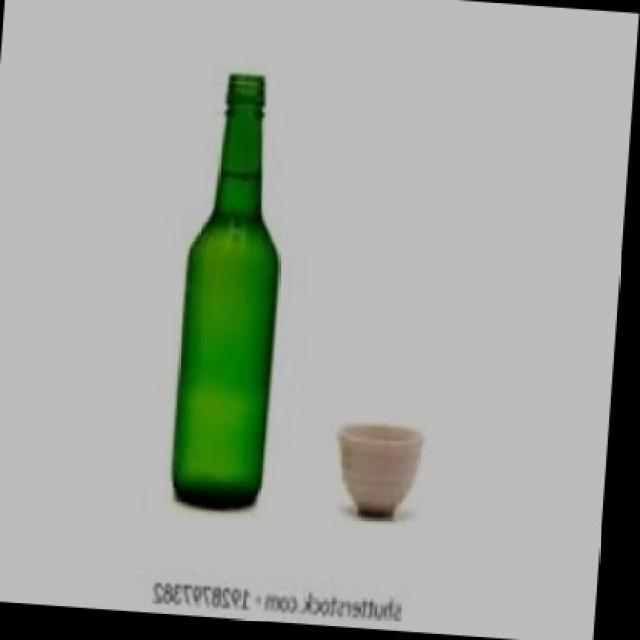Glass: (172, 73, 282, 510)
